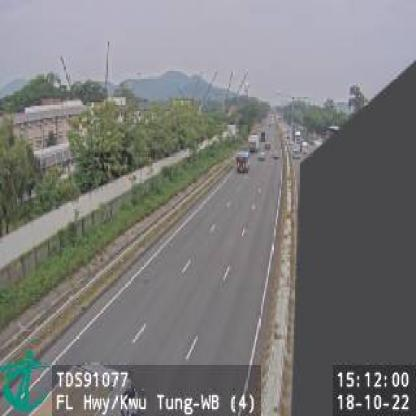Truck: (236, 149, 251, 175)
